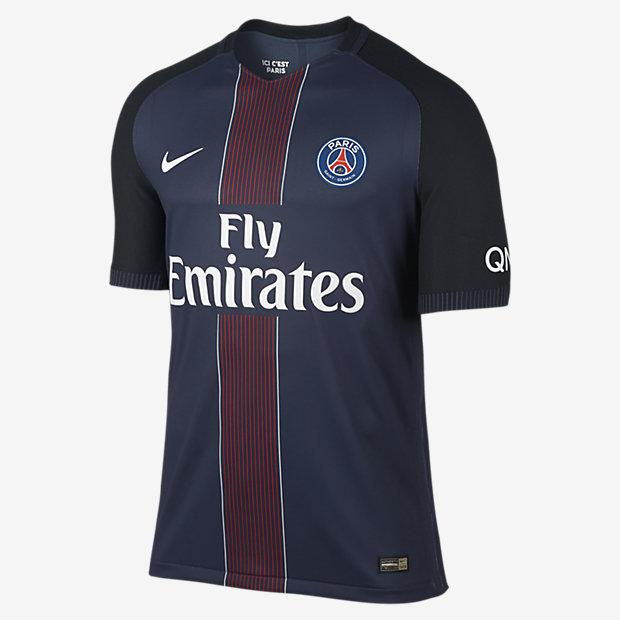teeshirt: (91, 14, 558, 620)
